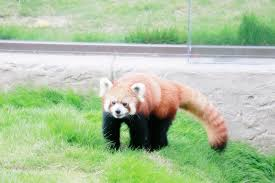redPanda: (93, 66, 228, 154)
